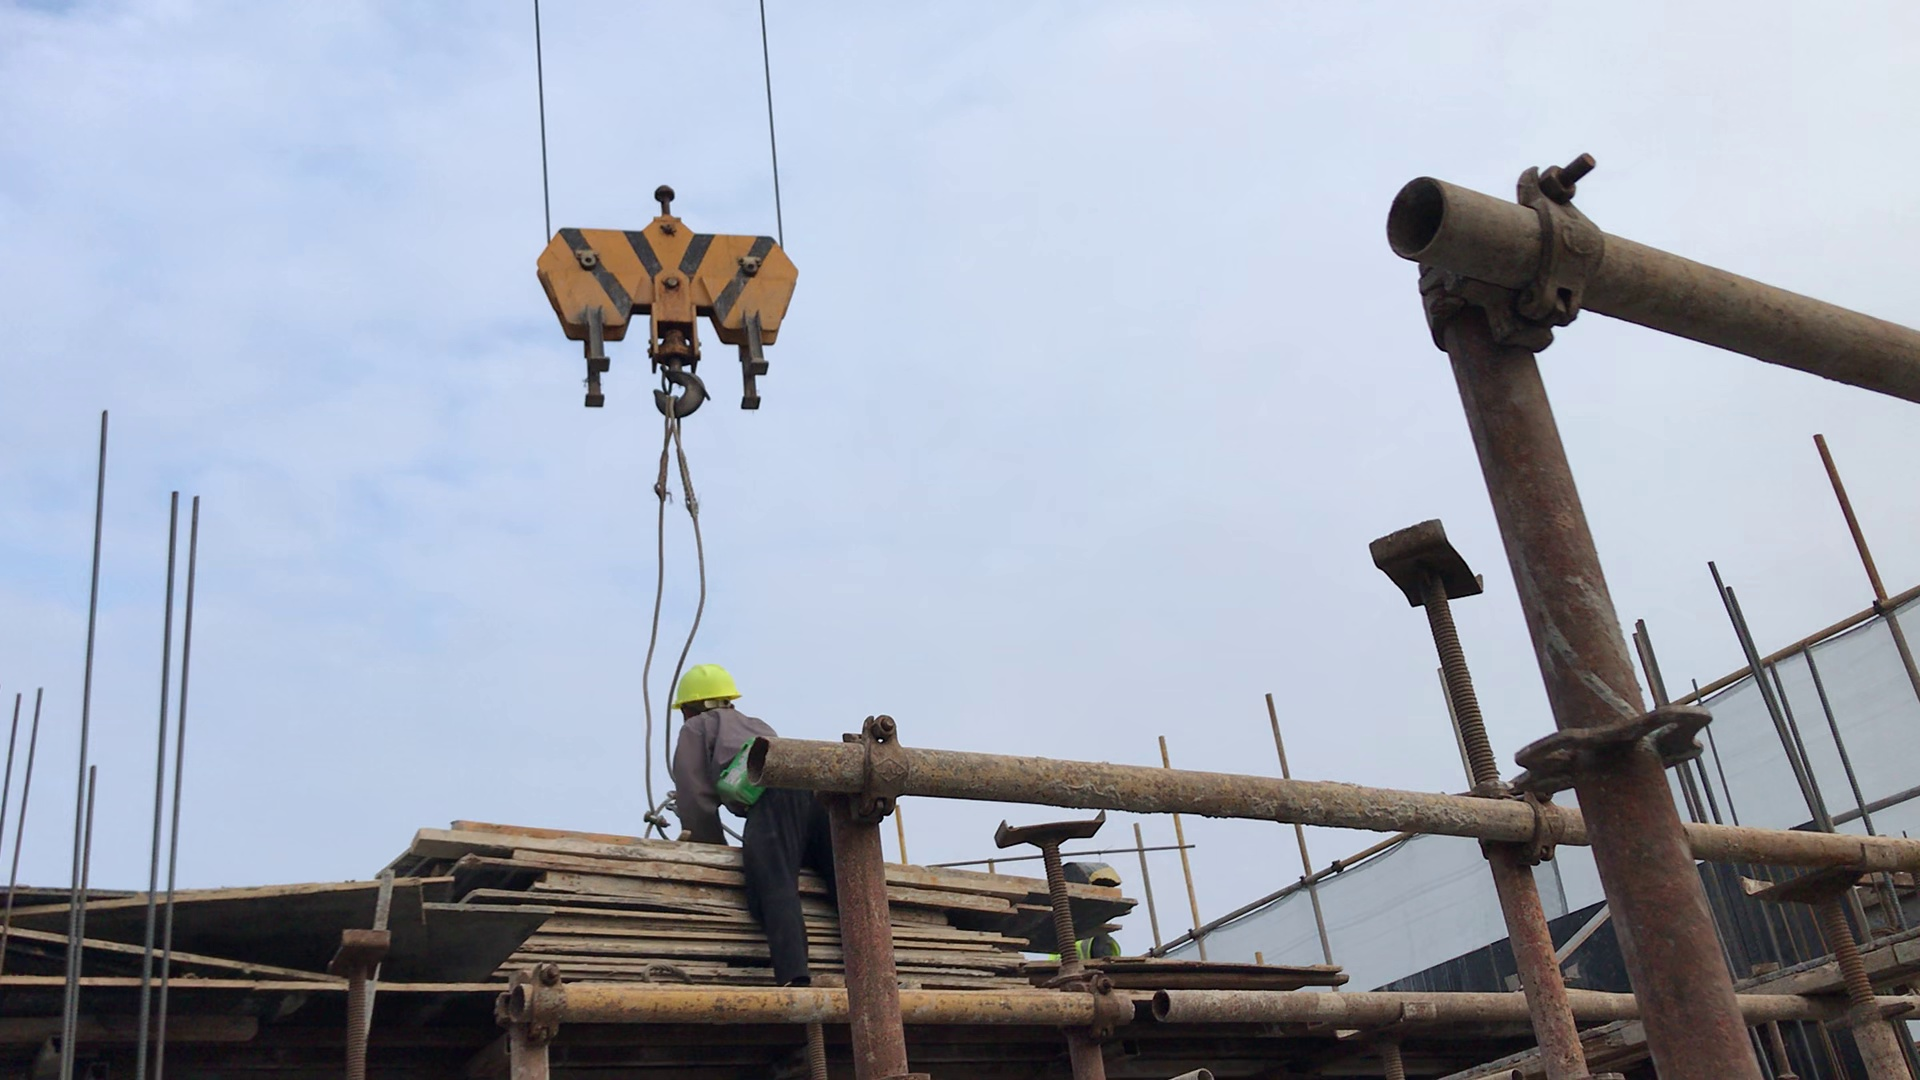board: (388, 801, 1137, 1039)
helmet: (663, 654, 758, 719)
hook: (537, 186, 801, 432)
person: (649, 657, 851, 1011)
